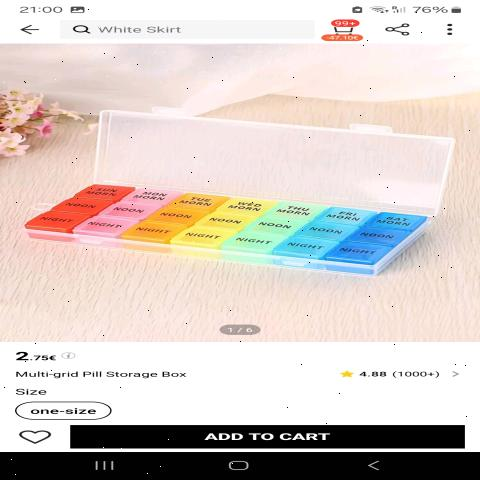PillBox: (22, 170, 435, 276)
